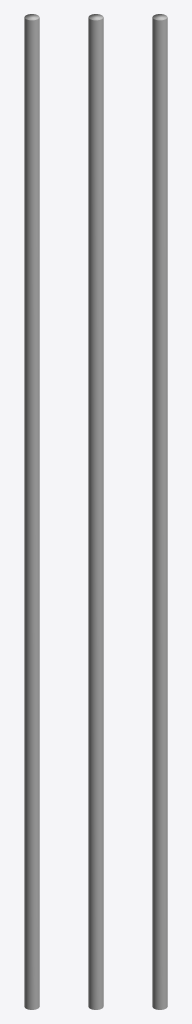
File: Axle.obj
3 renders of one model, left to right at view 1: azimuth 90°, elevation 25°; view 2: azimuth 150°, elevation 25°; view 3: azimuth 270°, elevation 25°, orthographic.
Parts seen in each view (by area): view 1: 柱体_柱体.004; view 2: 柱体_柱体.004; view 3: 柱体_柱体.004.
Boxes of the visible parts, x1=… form: 柱体_柱体.004: x1=24, y1=14, x2=39, y2=1009; 柱体_柱体.004: x1=88, y1=14, x2=103, y2=1009; 柱体_柱体.004: x1=152, y1=14, x2=167, y2=1009.
Bounding box in the file's own units: 0.08 × 5.8 × 0.08.
1 material, 1 textured.
